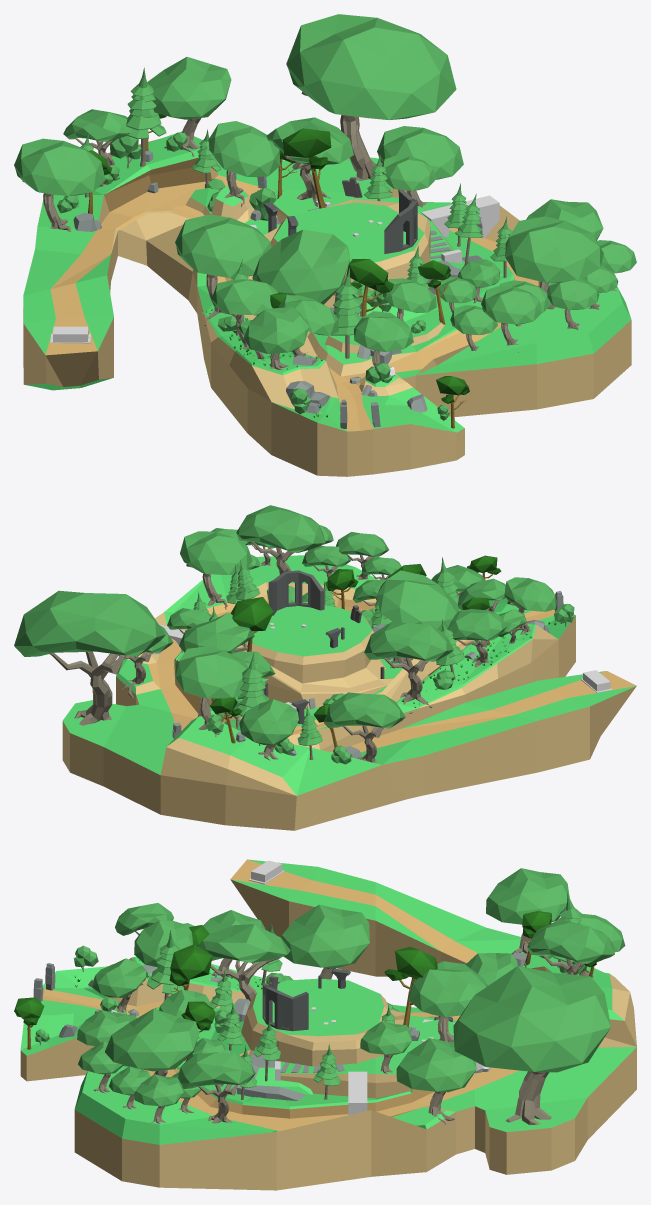
File: SM_04 Forest.fbx
The picture shows the model from 3 angles, top to bottom: view 1: azimuth 30°, elevation 25°; view 2: azimuth 150°, elevation 25°; view 3: azimuth 270°, elevation 25°; orthographic projection. The views are drawn at different scales.
Visible parts, largest first — view 1: Island.001, tree.044, Mountain.001, tree.010, tree.047, tree.031, tree.041, tree.020, tree.049, tree.025, tree.022, tree.048 (+25 smaller); view 2: Island.001, tree.044, Mountain.001, tree.047, tree.031, tree.020, tree.010, tree.015, tree.041, tree.033, tree.048, tree.039 (+21 smaller); view 3: Island.001, tree.044, Mountain.001, tree.031, tree.010, tree.041, tree.025, tree.048, tree.047, tree.020, tree.015, Ruins.001 (+25 smaller).
Boxes of the visible parts, bbox=[...] form: Island.001: bbox=[23, 131, 631, 476]; tree.044: bbox=[286, 14, 456, 180]; Mountain.001: bbox=[247, 199, 444, 353]; tree.010: bbox=[505, 216, 603, 309]; tree.047: bbox=[252, 229, 350, 304]; tree.031: bbox=[175, 214, 271, 325]; tree.041: bbox=[14, 138, 105, 231]; tree.020: bbox=[147, 57, 231, 156]; tree.049: bbox=[208, 121, 280, 207]; tree.025: bbox=[377, 126, 463, 207]; tree.022: bbox=[243, 307, 309, 369]; tree.048: bbox=[266, 117, 353, 206]; Island.001: bbox=[62, 555, 636, 830]; tree.044: bbox=[14, 590, 165, 725]; Mountain.001: bbox=[237, 601, 393, 708]; tree.047: bbox=[376, 570, 458, 665]; tree.031: bbox=[364, 621, 453, 713]; tree.020: bbox=[175, 646, 248, 736]; tree.010: bbox=[236, 505, 325, 574]; tree.015: bbox=[180, 531, 252, 609]; tree.041: bbox=[323, 692, 405, 762]; tree.033: bbox=[239, 699, 298, 760]; tree.048: bbox=[179, 612, 254, 652]; tree.039: bbox=[447, 609, 507, 667]; Island.001: bbox=[20, 859, 636, 1190]; tree.044: bbox=[453, 966, 610, 1124]; Mountain.001: bbox=[184, 978, 409, 1066]; tree.031: bbox=[281, 904, 369, 979]; tree.010: bbox=[105, 1008, 199, 1076]; tree.041: bbox=[486, 868, 569, 954]; tree.025: bbox=[396, 1038, 476, 1124]; tree.048: bbox=[408, 961, 487, 1042]; tree.047: bbox=[198, 924, 290, 1001]; tree.020: bbox=[527, 919, 614, 974]; tree.015: bbox=[178, 1052, 255, 1123]; Ruins.001: bbox=[262, 984, 308, 1031].
Size of the model in its own units: 6364 by 2103 by 6612.
